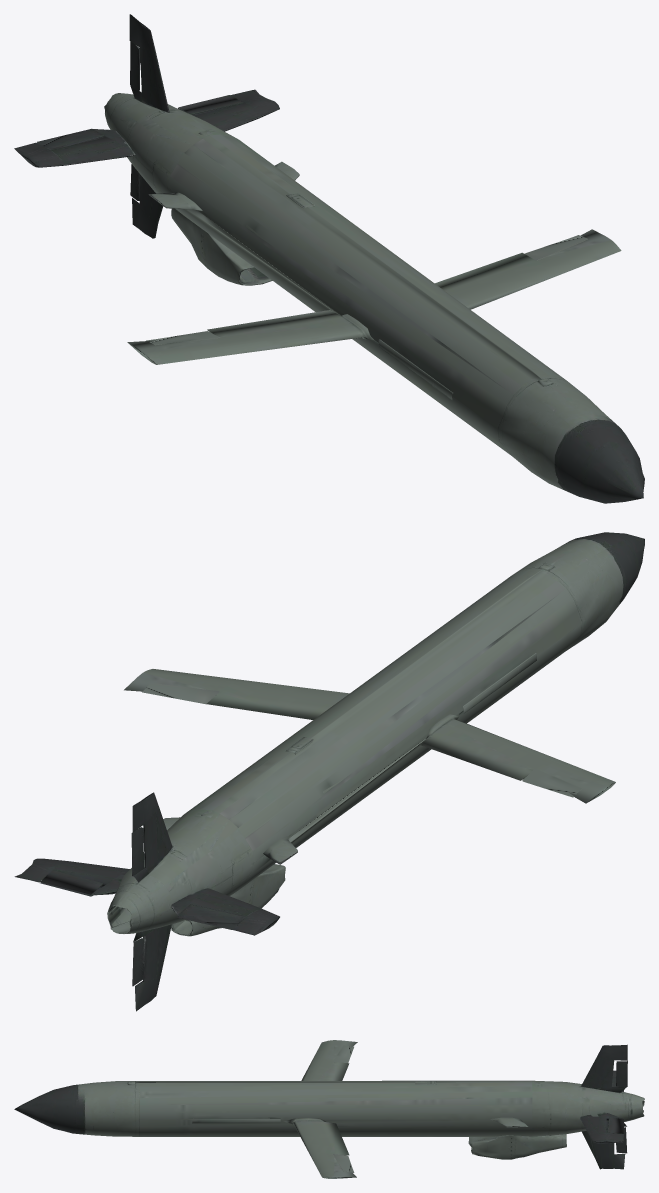
The model's file is cruise_missile.glb.
The picture shows the model from 3 angles, top to bottom: view 1: azimuth 30°, elevation 25°; view 2: azimuth 150°, elevation 25°; view 3: azimuth 270°, elevation 25°; orthographic projection. The views are drawn at different scales.
Parts seen in each view (by area): view 1: hull; view 2: hull; view 3: hull.
Part boxes in pixels (<box>): hull: <box>14,14,644,503</box>; hull: <box>14,532,644,1011</box>; hull: <box>14,1040,644,1178</box>.
Bounding box in the file's own units: 3.05 × 1.31 × 6.
3 materials, 3 textured.
